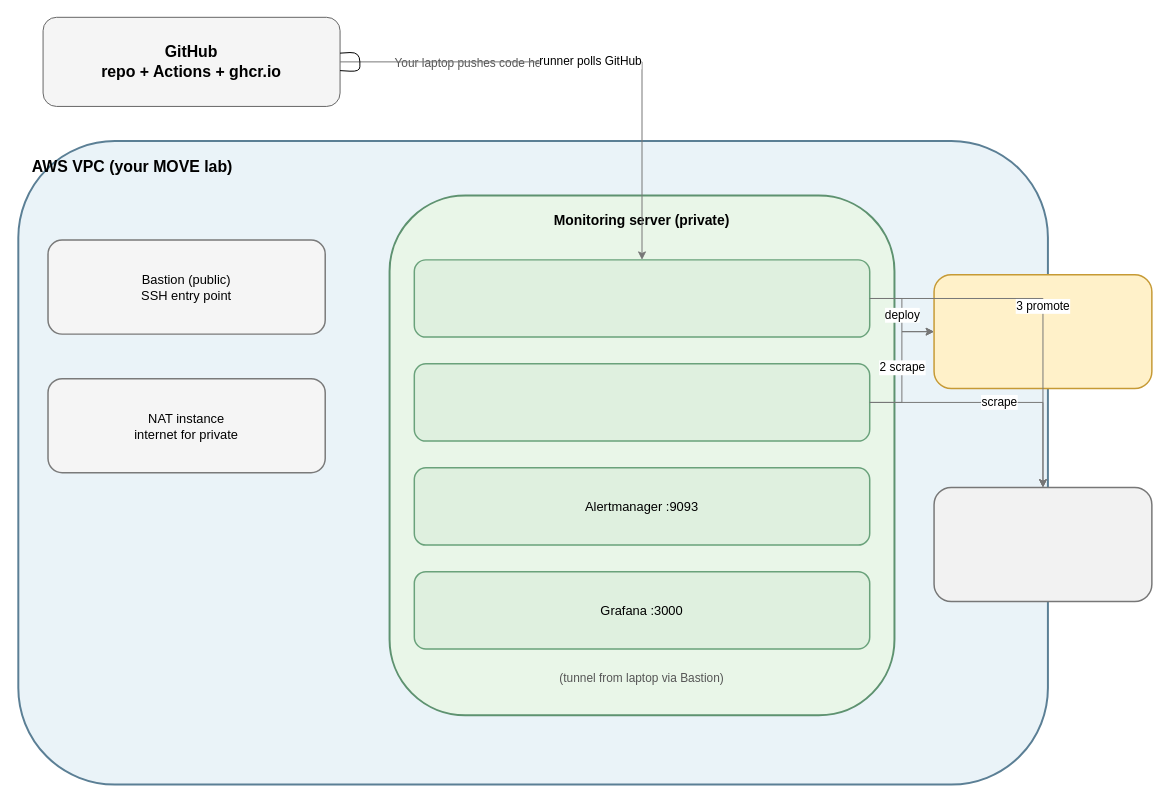
The diagram is 1169 pixels wide and 803 high, and some of its shapes have lost their labels. The centre of each missing label's shape, as x and y in pixels:
App1 (PROD) Docker :8080 Node Exporter: the point at 1042,544
App2 (CANARY) Docker :8080 Node Exporter: the point at 1042,331
Prometheus :9090: the point at 641,402
Self-hosted runner runs pipeline + gate: the point at 641,298
